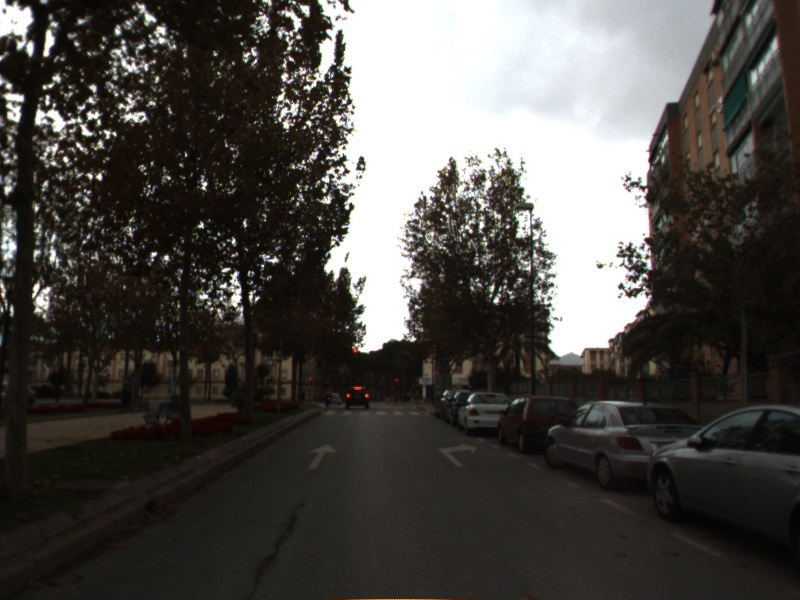RIGHT: (435, 439, 480, 469)
STRAIGHT: (305, 441, 340, 472)
